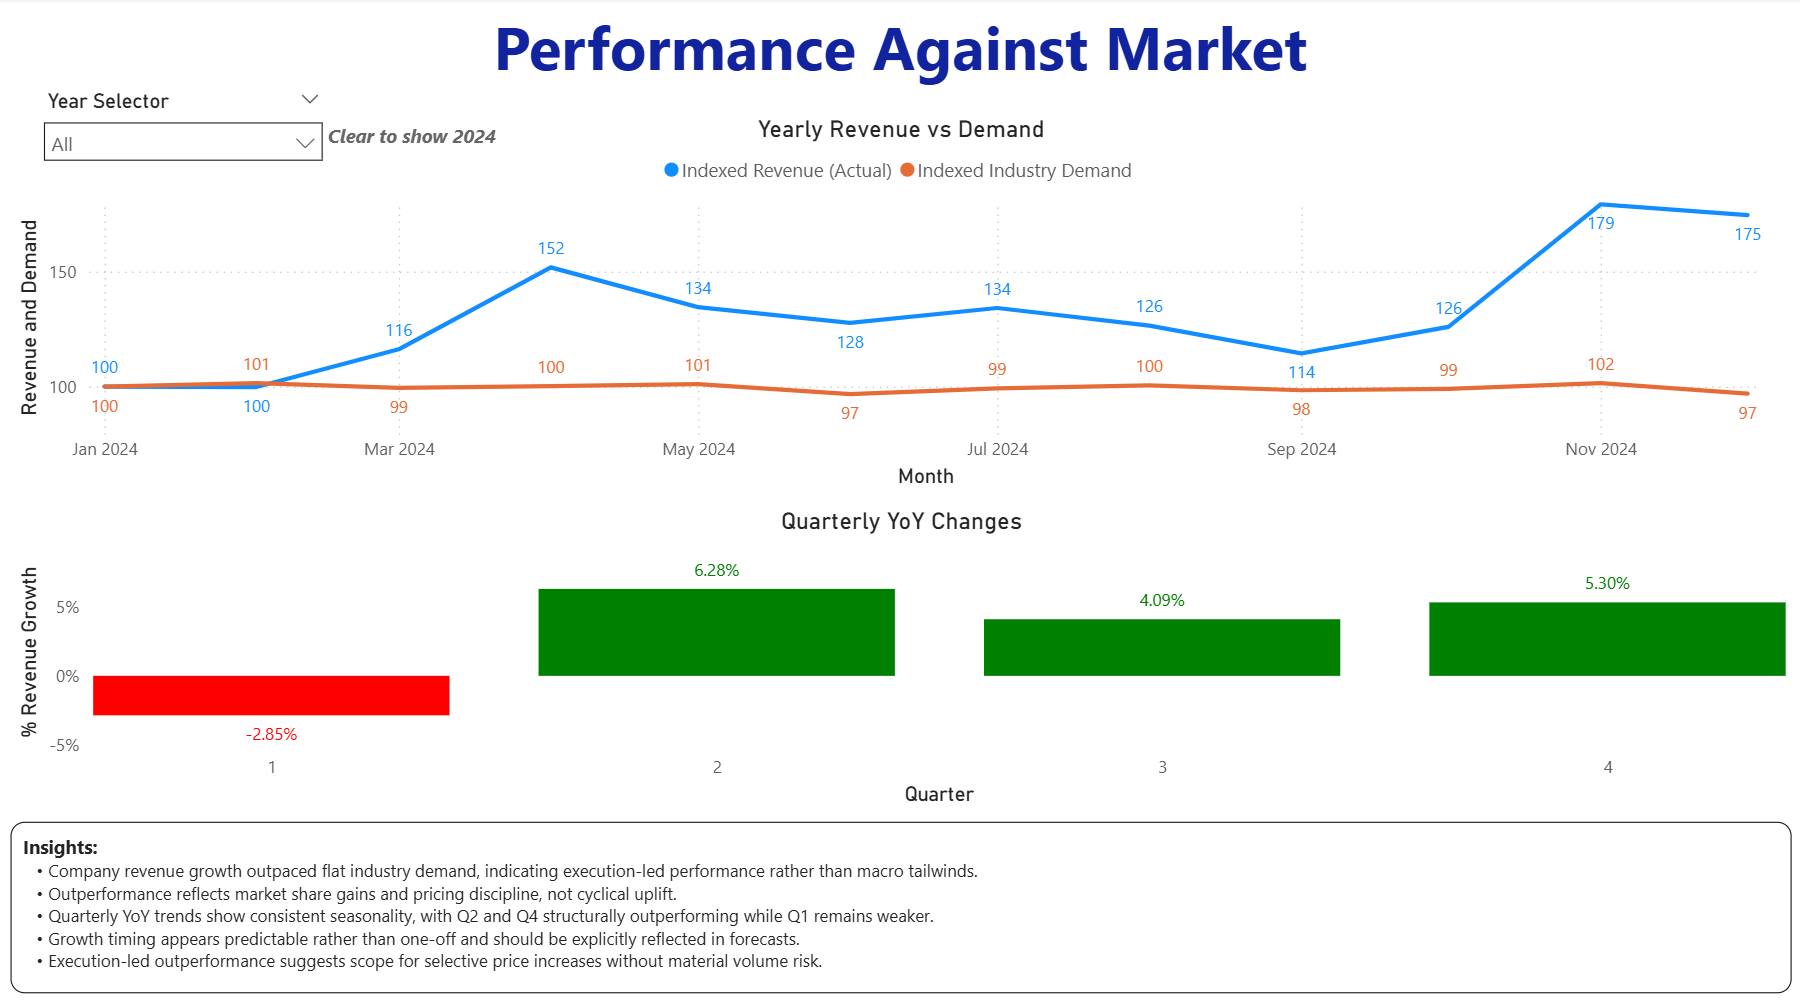

Layout of this report page (visuals, bound fields, positions):
{"tool":"powerbi","page":{"name":"Sales vs Market","canvas":[1280,720],"ordinal":1},"visuals":[{"type":"textbox","box":[342.3,0,595.4,73.5],"z":0},{"type":"lineChart","title":"Yearly Revenue vs Demand","fields":{"Category":["public fact_industry.date"],"Y":["public vw_revenue_summary.Act_Rev_TTM_Indexed","public fact_industry.ind_demand_Indexed"]},"box":[8.9,82.4,1262.5,269.3],"z":1000},{"type":"clusteredColumnChart","title":"Quarterly YoY Changes","fields":{"Category":["public vw_revenue_summary.quarter"],"Y":["public vw_revenue_summary.Act Rev QoQ YoY %"]},"box":[8.9,360.6,1263.3,217.1],"z":2000},{"type":"textbox","box":[8.9,583.8,1262.5,121.4],"z":3000},{"type":"slicer","fields":{"Values":["public dim_date.year"]},"box":[22.1,59.4,217.9,77.1],"z":4000},{"type":"textbox","box":[224.1,88.6,138.2,25.7],"z":5000}]}

Visuals, with their boxes in screenshot pixels (x1, y1, x2, y2), scaled from the page's 1280x720 canvas onto the 1800x1008 screenshot:
textbox: 481/0/1319/103
"Yearly Revenue vs Demand" lineChart: 13/115/1788/492
"Quarterly YoY Changes" clusteredColumnChart: 13/505/1789/809
textbox: 13/817/1788/987
slicer - public dim_date.year: 31/83/338/191
textbox: 315/124/509/160
